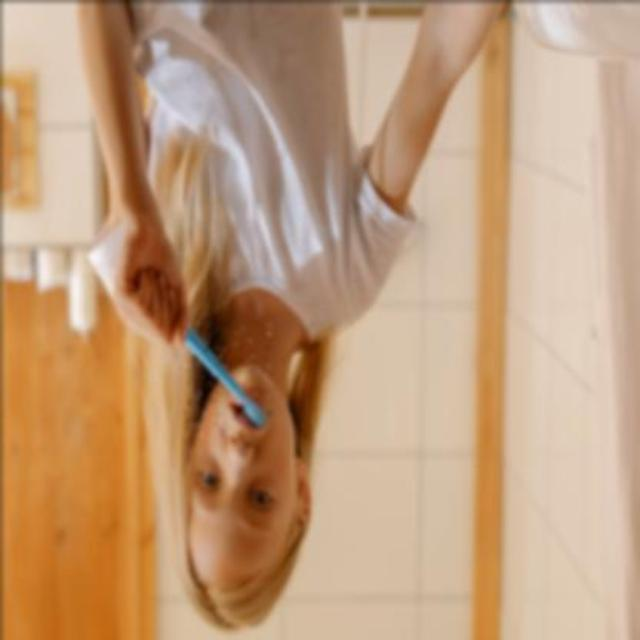toothbrush: (183, 317, 269, 435)
